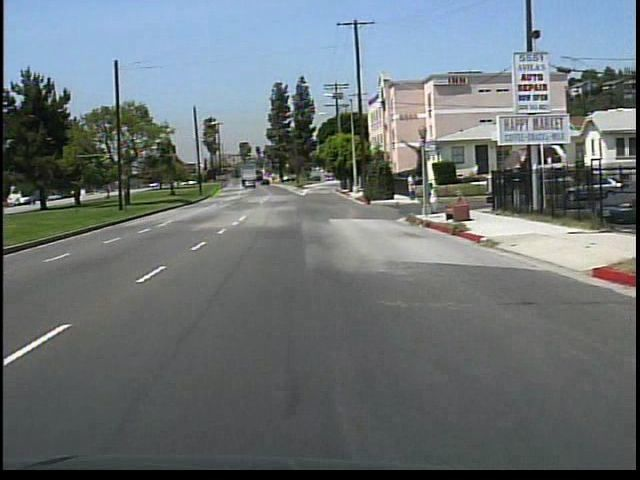person: (423, 179, 437, 217), (403, 172, 416, 199)
